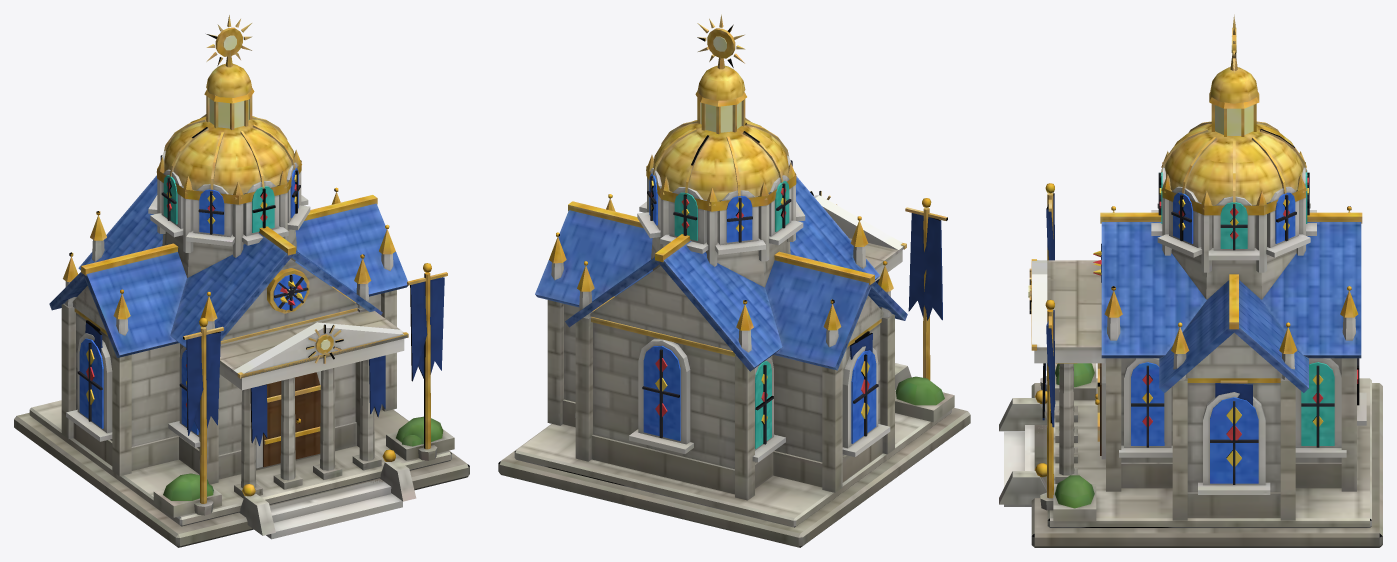
Rendered from temple.glb.
3 renders of one model, left to right at view 1: azimuth 30°, elevation 25°; view 2: azimuth 150°, elevation 25°; view 3: azimuth 270°, elevation 25°, orthographic. The views are drawn at different scales.
Parts seen in each view (by area): view 1: Static_Mesh, Anim_Banners; view 2: Static_Mesh, Anim_Banners; view 3: Static_Mesh, Anim_Banners.
Part boxes in pixels (box(x1,y1,x2,y2)): Static_Mesh: box(14, 15, 469, 547); Anim_Banners: box(85, 277, 444, 445); Static_Mesh: box(498, 14, 970, 547); Anim_Banners: box(850, 213, 942, 359); Static_Mesh: box(999, 14, 1382, 547); Anim_Banners: box(1042, 193, 1252, 427).
Bounding box in the file's own units: 6.7 × 9.37 × 7.1.
2 materials, 2 textured.
